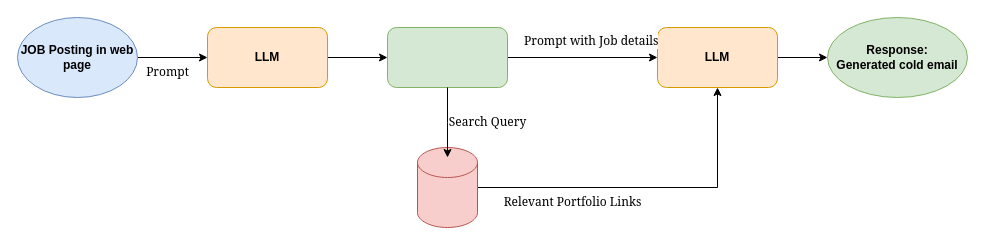
Image size: 985x245. Some labels were removed from this diagram. The centre of each missing label's shape, as x and y in pixels:
Extracted relevant information in JSON format: (x=447, y=57)
Vector DB: (x=447, y=187)
